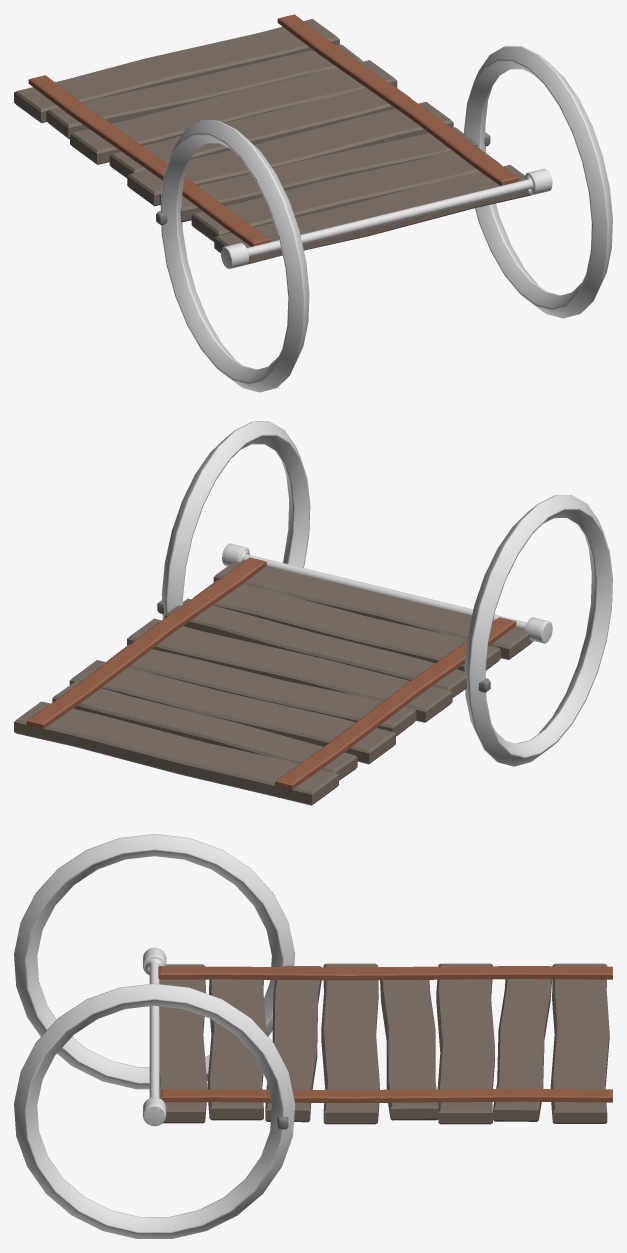
Rendered from drawbridge_main.fbx.
3 views of the same model, one above another, from view 1: azimuth 30°, elevation 25°; view 2: azimuth 150°, elevation 25°; view 3: azimuth 270°, elevation 25° (orthographic).
Visible parts, largest first — view 1: polySurface5; view 2: polySurface5; view 3: polySurface5.
Boxes of the visible parts, box(x1,y1,x2,y2) form: polySurface5: box(14, 14, 612, 392); polySurface5: box(14, 421, 612, 805); polySurface5: box(14, 834, 612, 1238).
Size of the model in its own units: 170 by 123 by 263.
